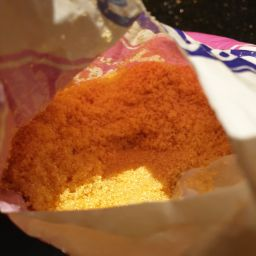Brown Sugar: (59, 100, 210, 156), (86, 83, 161, 183), (18, 139, 179, 185)
